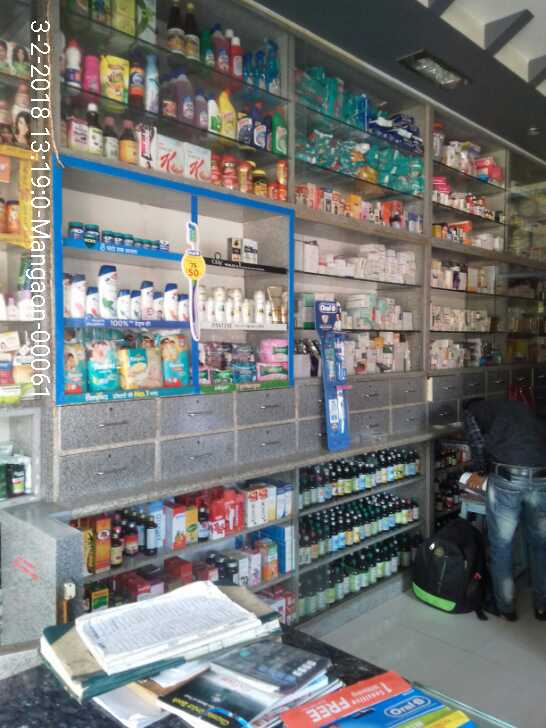oralcare: (317, 304, 351, 449)
vicks: (68, 220, 171, 254)
